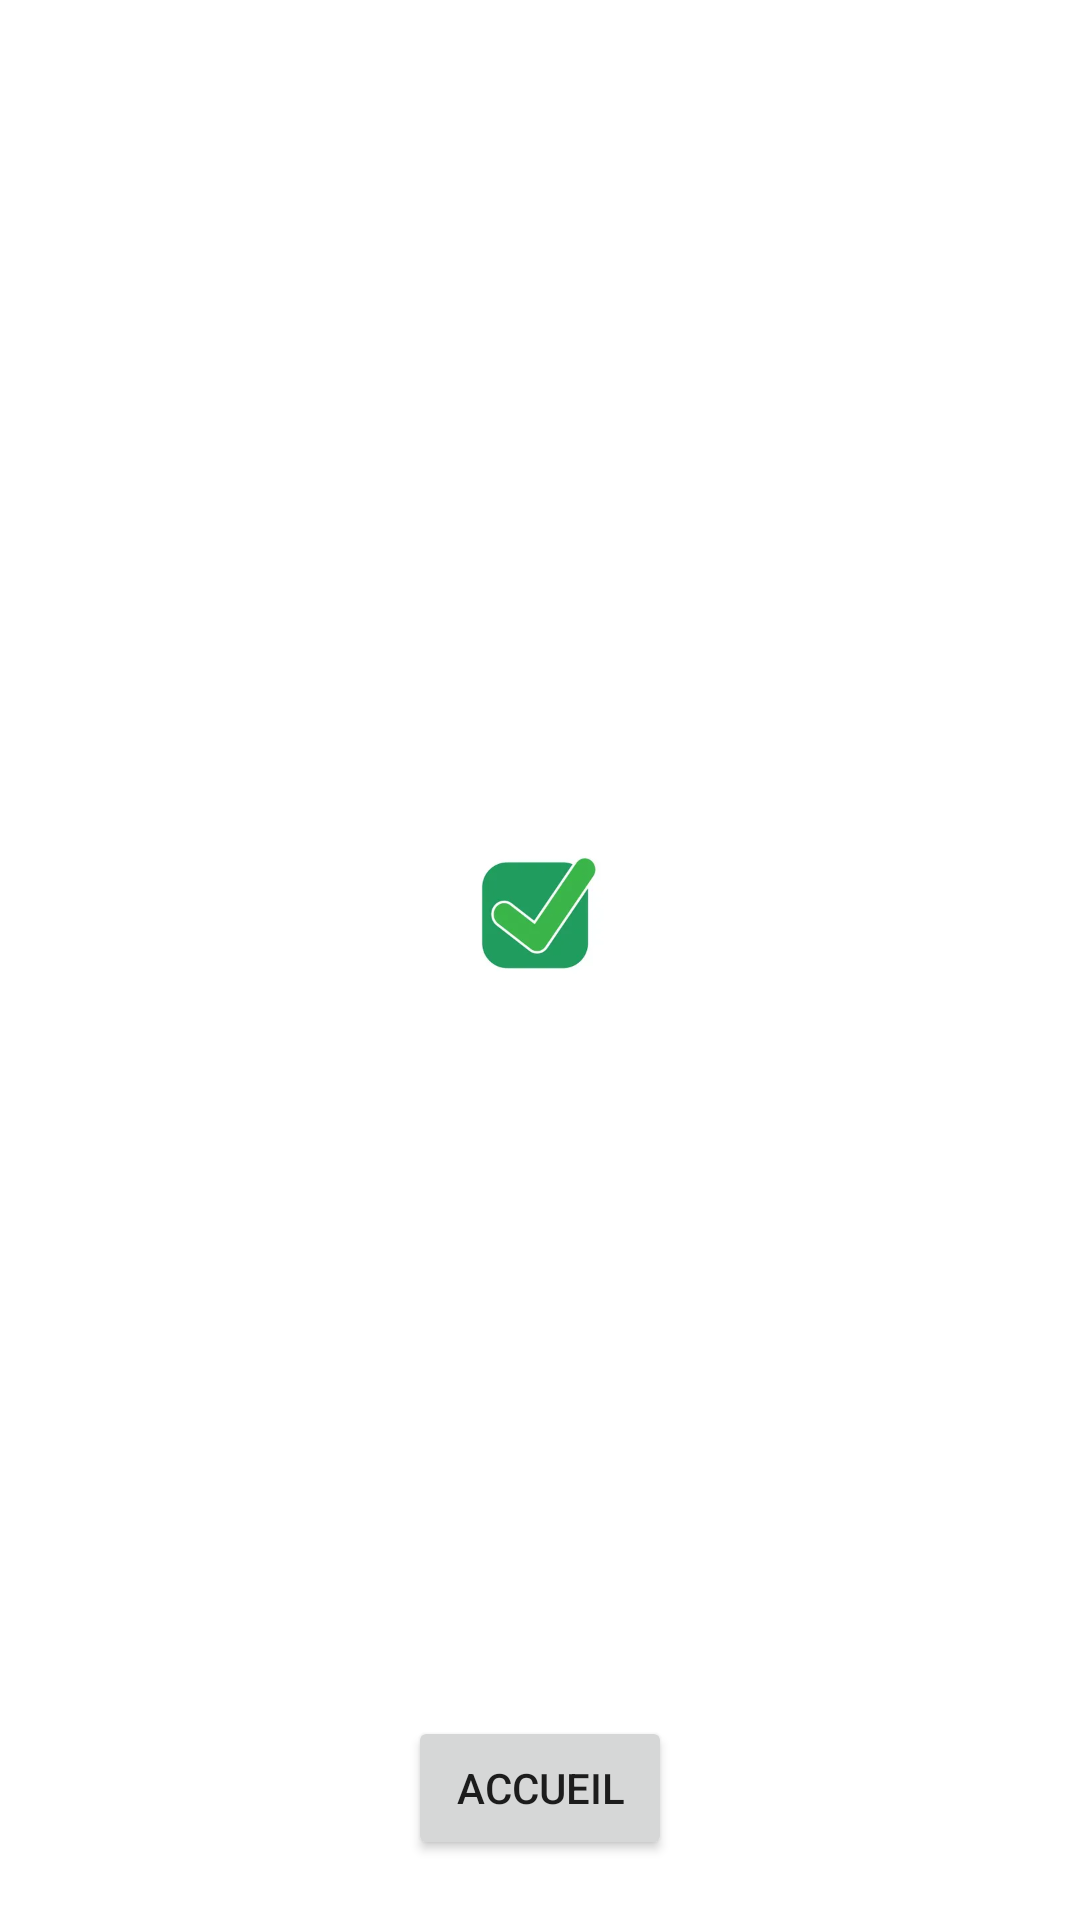

Where icons sit on this 1080×1920 app screen, as region(x1, y1, x2, y2):
check: region(482, 858, 596, 969)
